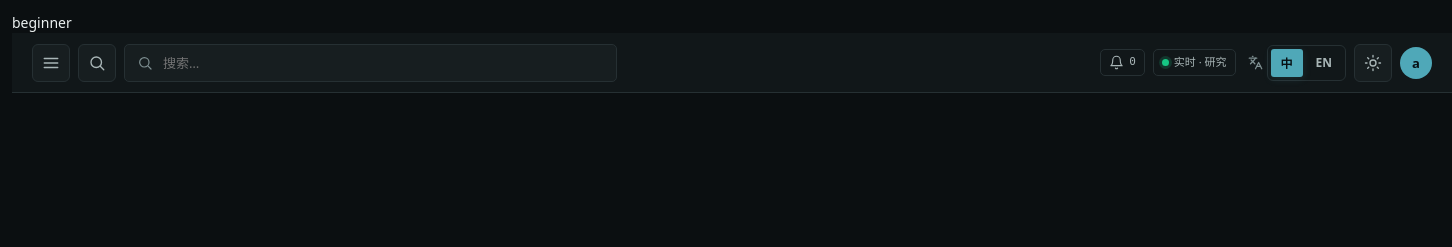
Test: interface mode selection › switches the active mode immediately from the topbar menu
Click the button named "打开界面与个人偏好".
click(1416, 62)  # box top-left (1400, 46), bottom-right (1432, 78)
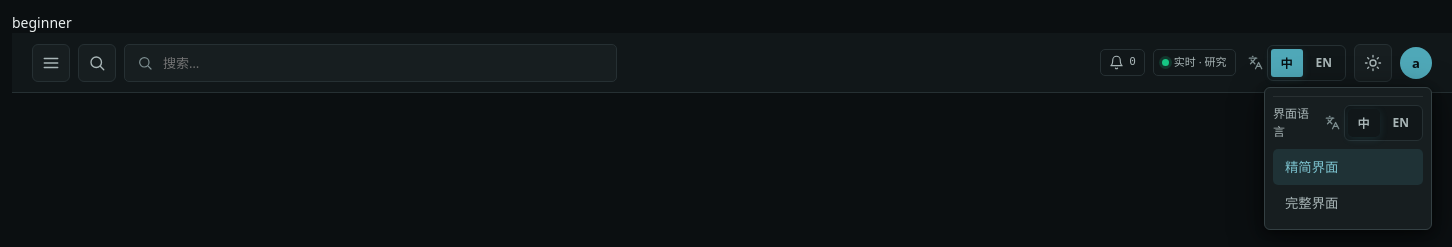
Click the menu item "完整界面".
click(1348, 202)  # box top-left (1273, 184), bottom-right (1423, 220)
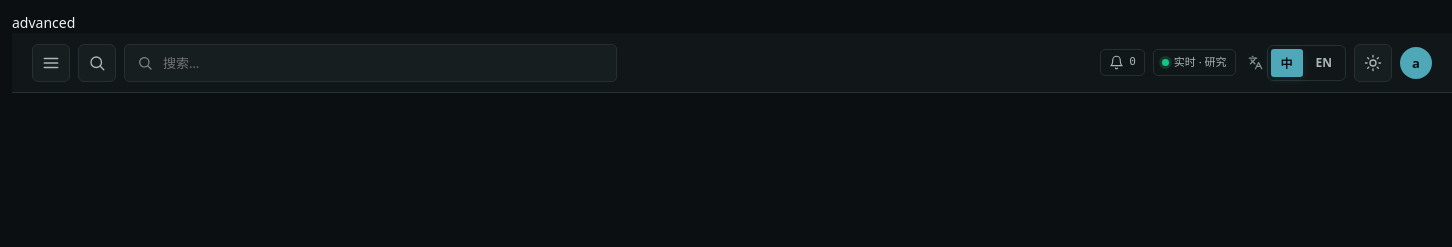
Now the text named "当前界面范围" reads "advanced", box top-left (12, 13), bottom-right (75, 32)
